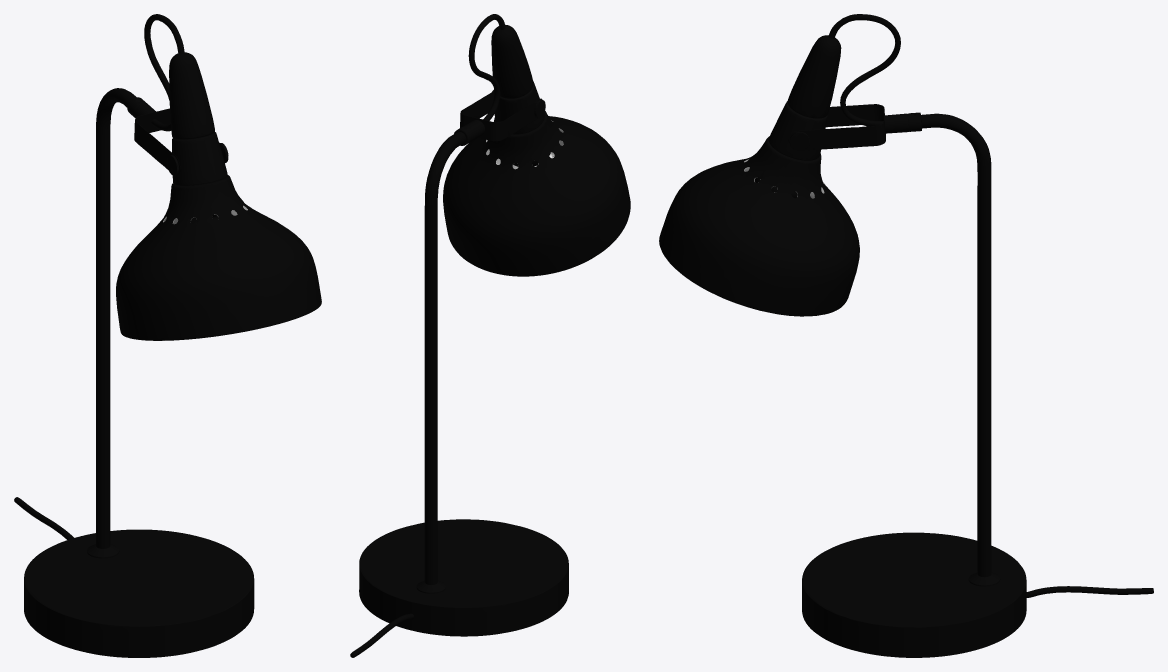
The model's file is GOLV4188.obj.
3 views of the same model, side by side, from view 1: azimuth 30°, elevation 25°; view 2: azimuth 150°, elevation 25°; view 3: azimuth 270°, elevation 25° (orthographic). The views are drawn at different scales.
Visible parts, largest first — view 1: not_clear_obj_1_v6, not_clear_obj_0_v6, not_clear_obj_4_v6, not_clear_obj_3_v6; view 2: not_clear_obj_1_v6, not_clear_obj_0_v6, not_clear_obj_4_v6, not_clear_obj_3_v6; view 3: not_clear_obj_1_v6, not_clear_obj_0_v6, not_clear_obj_4_v6, not_clear_obj_3_v6.
Part boxes in pixels (left/top/right/bottom): not_clear_obj_1_v6: left=24, top=88, right=321, bottom=657; not_clear_obj_0_v6: left=169, top=52, right=214, bottom=139; not_clear_obj_4_v6: left=87, top=97, right=228, bottom=558; not_clear_obj_3_v6: left=14, top=14, right=184, bottom=539; not_clear_obj_1_v6: left=359, top=91, right=630, bottom=636; not_clear_obj_0_v6: left=491, top=24, right=533, bottom=98; not_clear_obj_4_v6: left=416, top=81, right=544, bottom=593; not_clear_obj_3_v6: left=350, top=14, right=505, bottom=657; not_clear_obj_1_v6: left=659, top=104, right=1026, bottom=657; not_clear_obj_0_v6: left=787, top=35, right=841, bottom=118; not_clear_obj_4_v6: left=768, top=101, right=1000, bottom=586; not_clear_obj_3_v6: left=828, top=14, right=1153, bottom=597.
Size of what is drawn, in the model's own units: 18.04 by 52.86 by 39.75.
